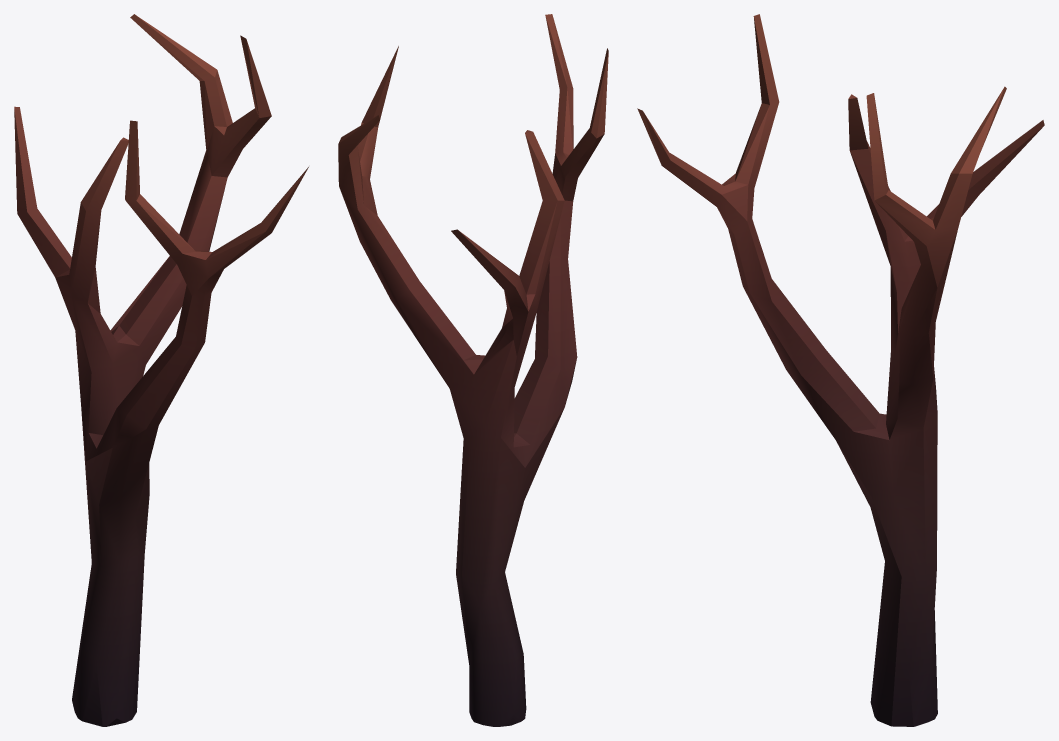
Rendered from DeadTree3.fbx.
The picture shows the model from 3 angles, left to right: view 1: azimuth 30°, elevation 25°; view 2: azimuth 150°, elevation 25°; view 3: azimuth 270°, elevation 25°; orthographic projection. The views are drawn at different scales.
Visible parts, largest first — view 1: DeadTree3; view 2: DeadTree3; view 3: DeadTree3.
Boxes of the visible parts, <box> form: DeadTree3: <box>14,14,308,726</box>; DeadTree3: <box>338,14,608,726</box>; DeadTree3: <box>637,14,1044,726</box>.
Bounding box in the file's own units: 2.08 × 6.39 × 3.46.
